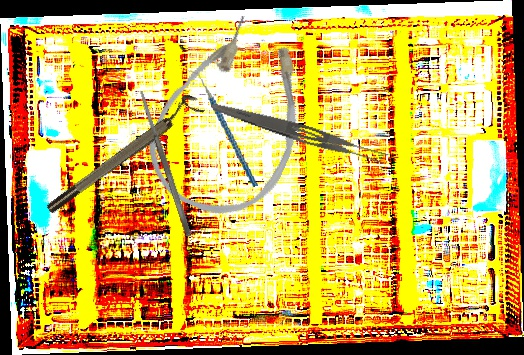Cannula: (131, 1, 335, 234)
Chopper: (187, 62, 258, 194)
Dressing Forceps: (207, 99, 391, 168)
Fixation Ring: (39, 90, 206, 217)
Spatula Surgical: (137, 88, 193, 238)
